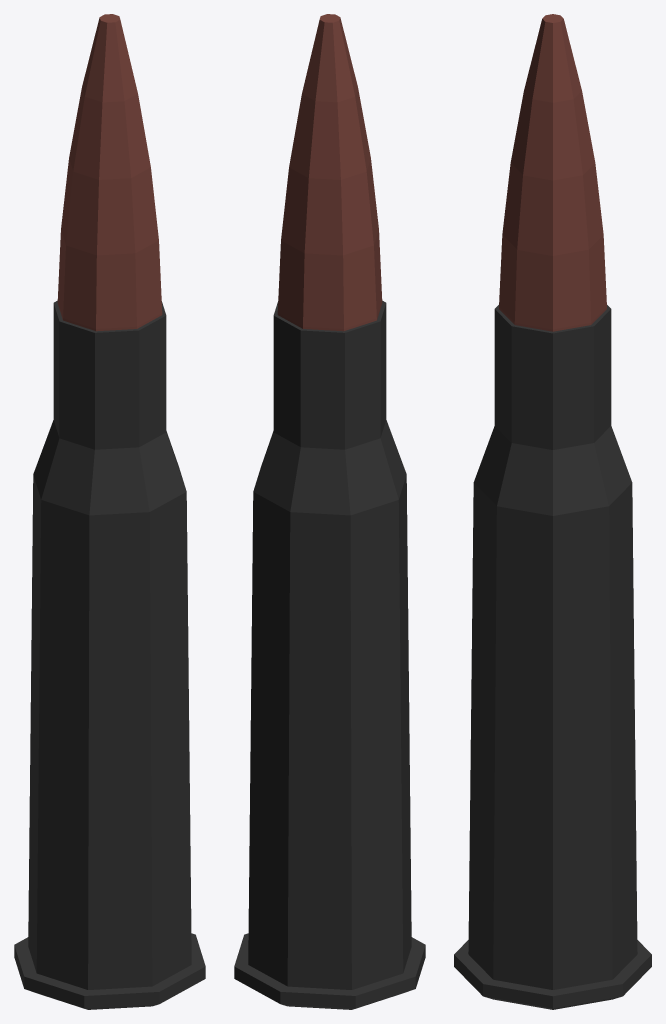
The picture shows the model from 3 angles, left to right: view 1: azimuth 30°, elevation 25°; view 2: azimuth 150°, elevation 25°; view 3: azimuth 270°, elevation 25°; orthographic projection.
Parts seen in each view (by area): view 1: 7.62x54R; view 2: 7.62x54R; view 3: 7.62x54R.
Part boxes in pixels (<box>): 7.62x54R: <box>14,14,205,1009</box>; 7.62x54R: <box>234,14,425,1009</box>; 7.62x54R: <box>454,14,651,1009</box>.
Size of the model in its own units: 0.0145 by 0.0772 by 0.0145.
1 material, 1 textured.
